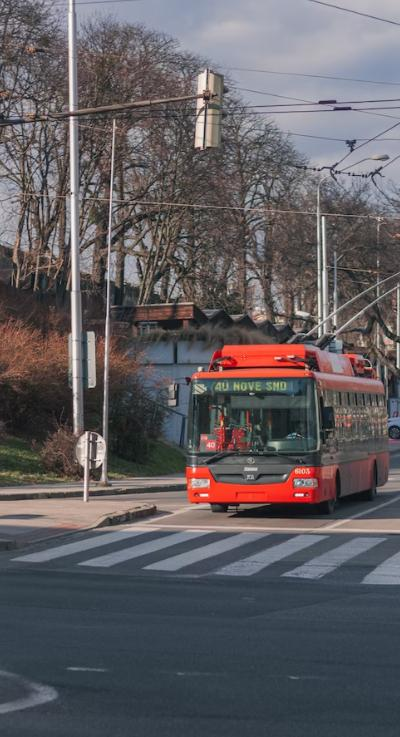vehicle: (167, 343, 390, 514)
